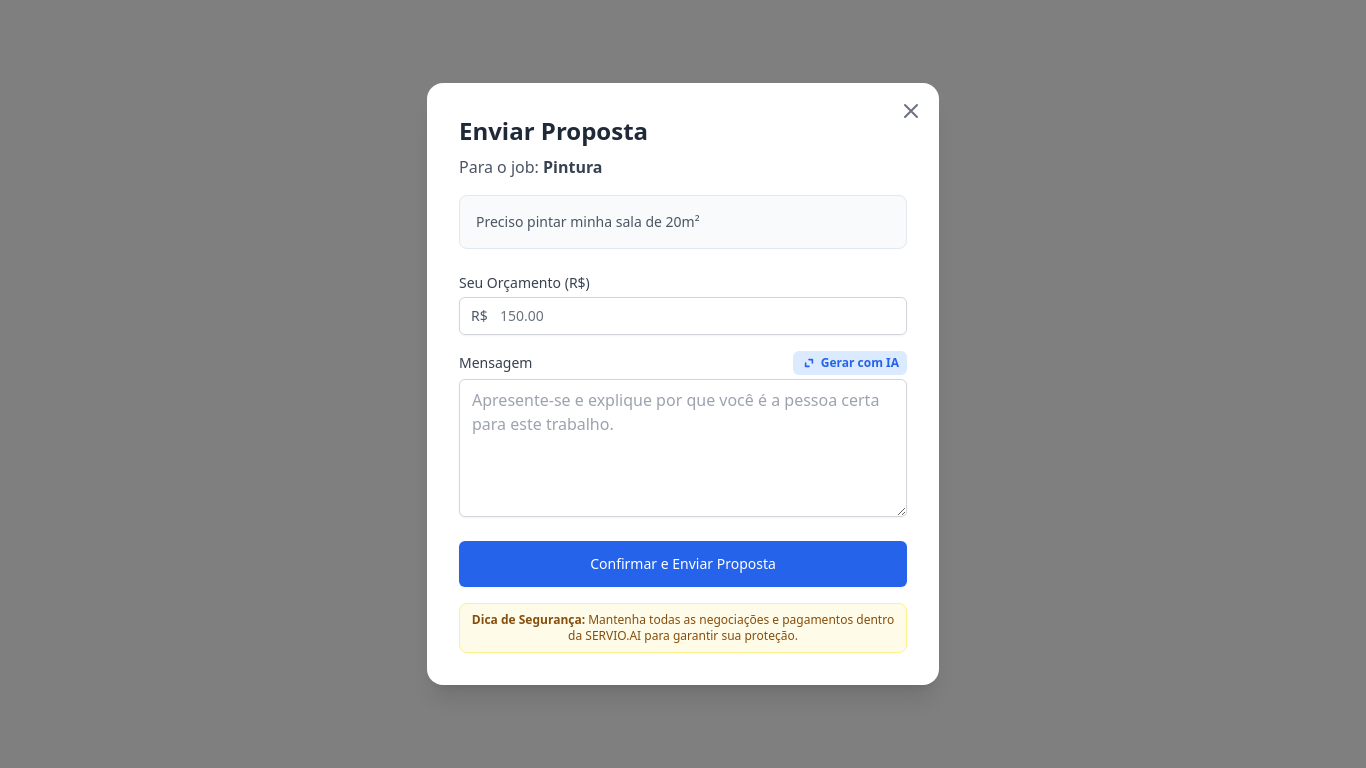
Test: ProposalModal › exibe erro quando IA falha ao gerar mensagem
Click the button "Gerar com IA": (850, 363) top-left (793, 351), bottom-right (907, 375)
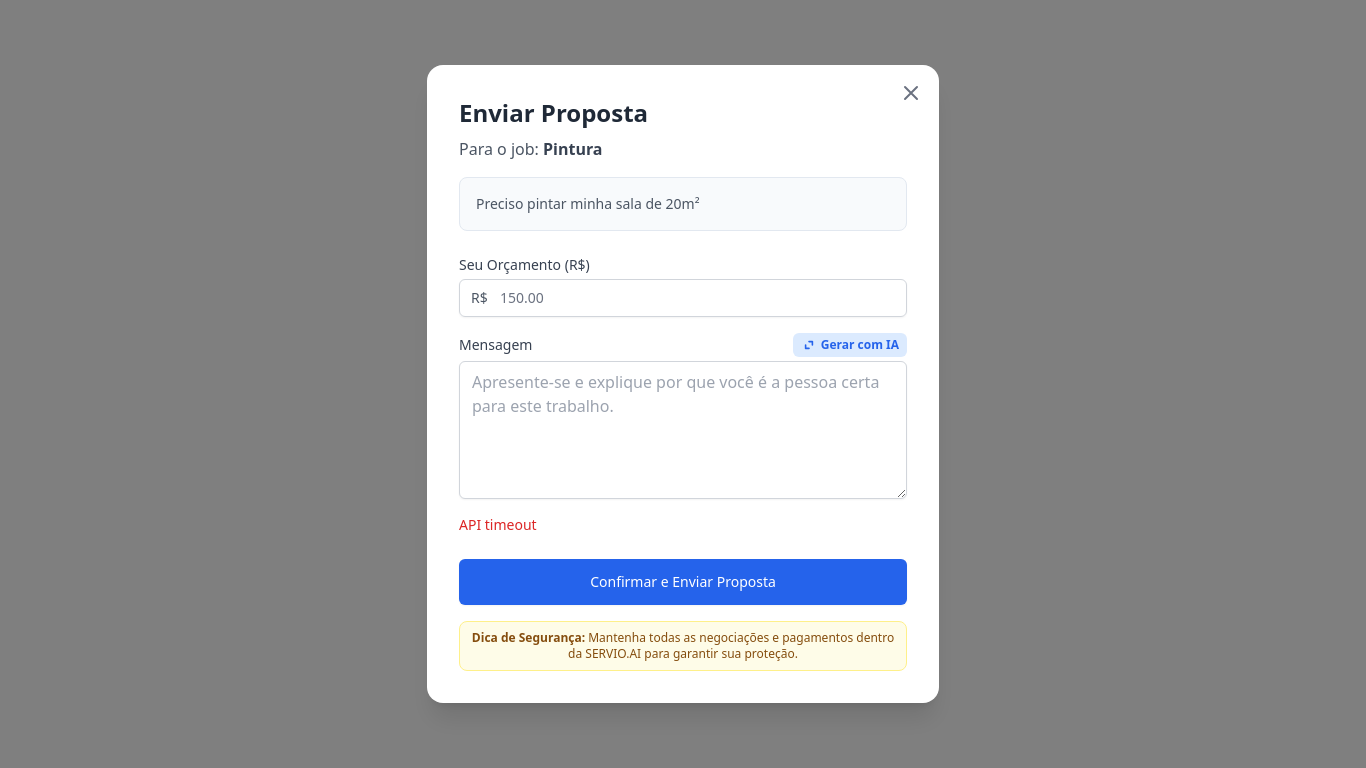
Expected: the text "API timeout" is shown, top-left (459, 515), bottom-right (537, 534)
